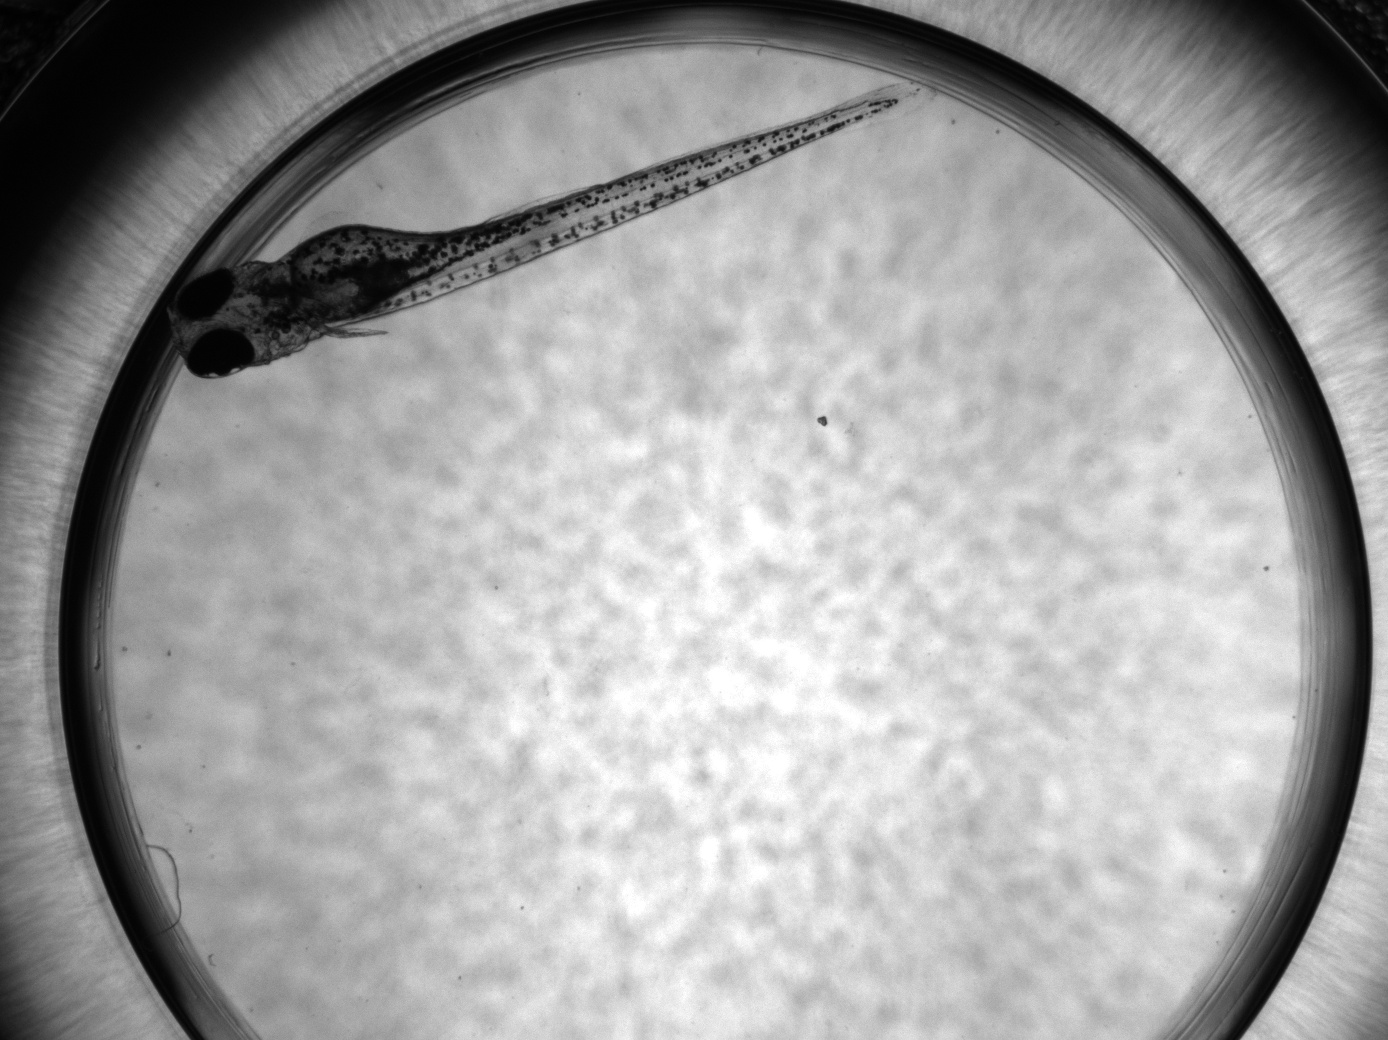embryo: (169, 93, 901, 378)
eye: (185, 329, 254, 378), (173, 268, 234, 322)
yolksac: (287, 225, 414, 321)
